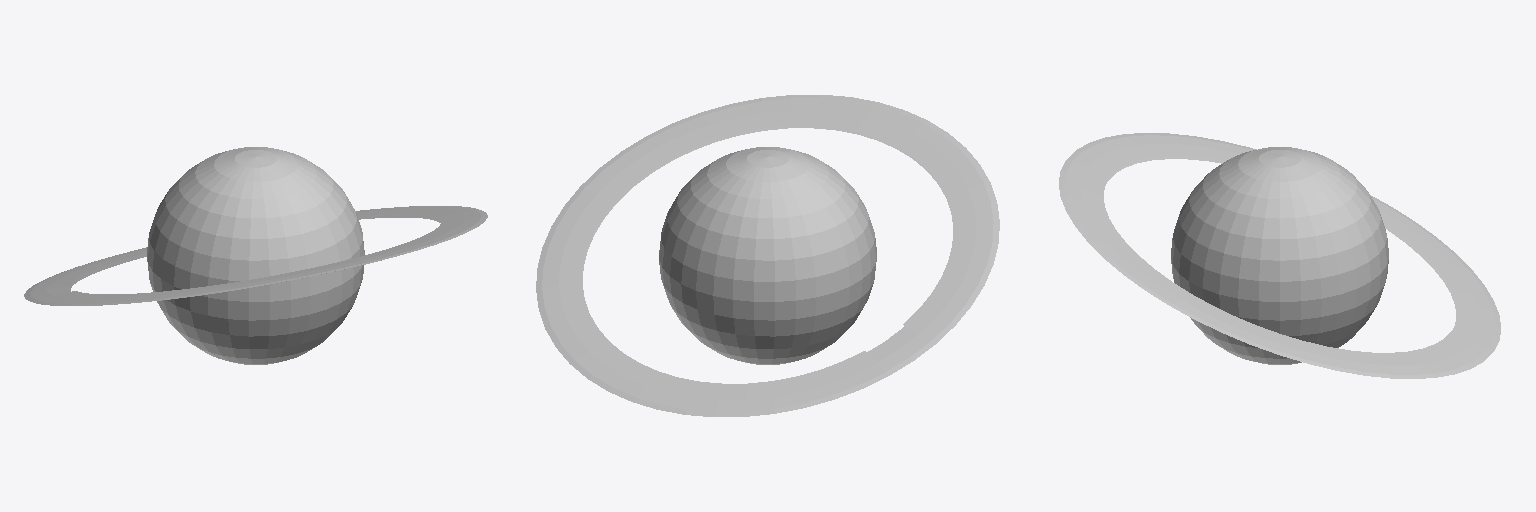
File: planeta.obj
The picture shows the model from 3 angles: view 1: azimuth 30°, elevation 25°; view 2: azimuth 150°, elevation 25°; view 3: azimuth 270°, elevation 25°; orthographic projection.
Parts seen in each view (by area): view 1: Sphere_Sphere.001; view 2: Sphere_Sphere.001; view 3: Sphere_Sphere.001.
Part boxes in pixels (bbox=[...]): Sphere_Sphere.001: bbox=[24, 147, 487, 364]; Sphere_Sphere.001: bbox=[536, 95, 999, 416]; Sphere_Sphere.001: bbox=[1059, 133, 1500, 378].
Size of the model in its own units: 14.98 by 6.96 by 14.09.